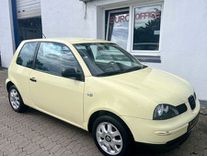car: (4, 34, 201, 155)
